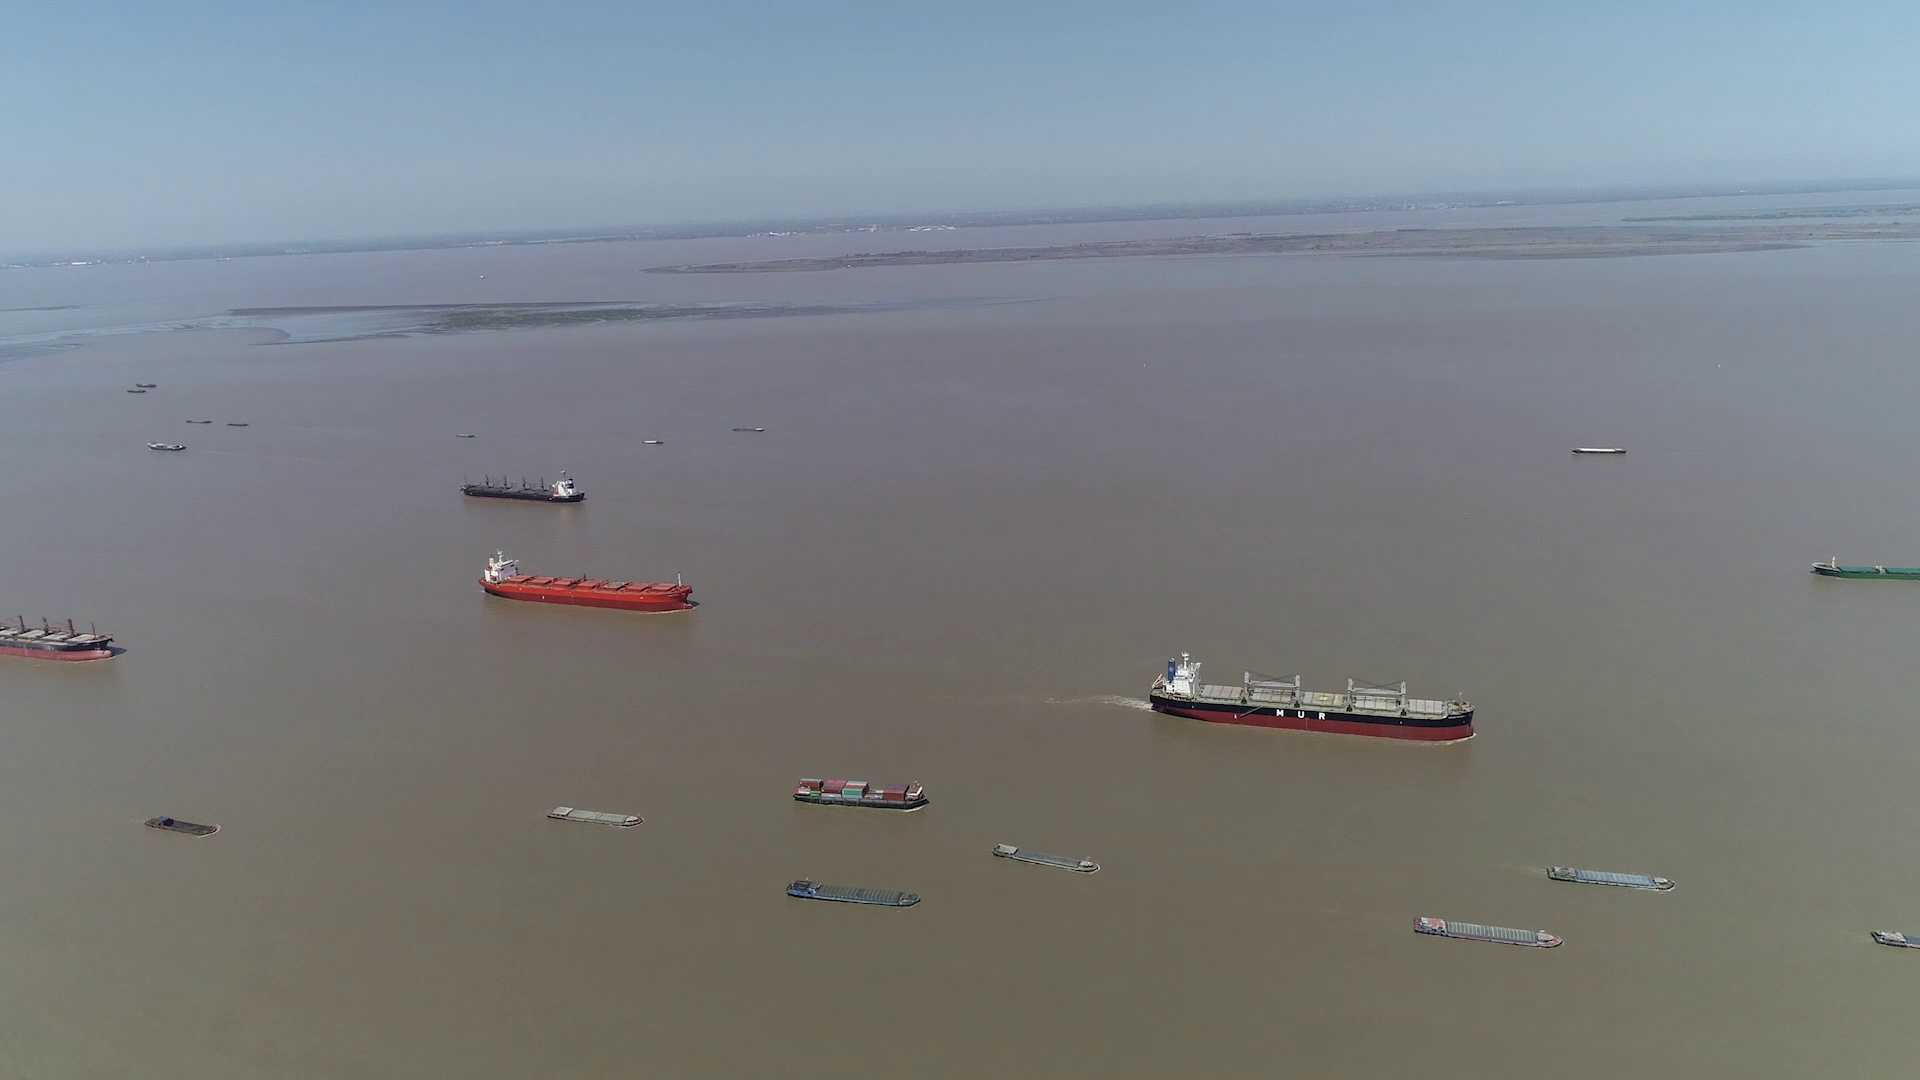ship: (1150, 651, 1476, 740), (484, 550, 696, 611), (0, 599, 119, 662), (1414, 915, 1563, 949), (793, 777, 930, 811), (462, 469, 585, 504), (786, 880, 922, 909), (1547, 864, 1675, 891), (993, 841, 1098, 873), (546, 804, 644, 828), (1811, 558, 1920, 579), (144, 815, 218, 836), (1870, 928, 1917, 953), (1571, 446, 1626, 455), (148, 440, 187, 451)
